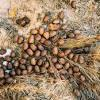Elk: (21, 33, 57, 73), (60, 55, 79, 79), (6, 56, 19, 77)
